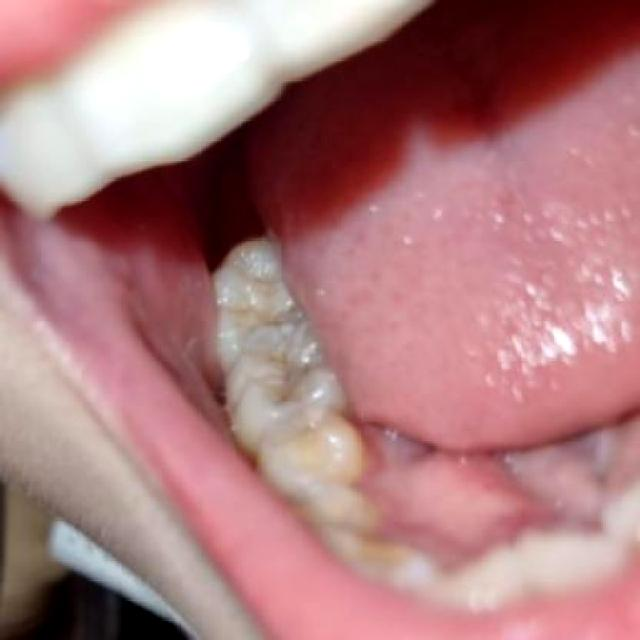Plaque: (234, 263, 303, 327), (254, 343, 320, 402)
